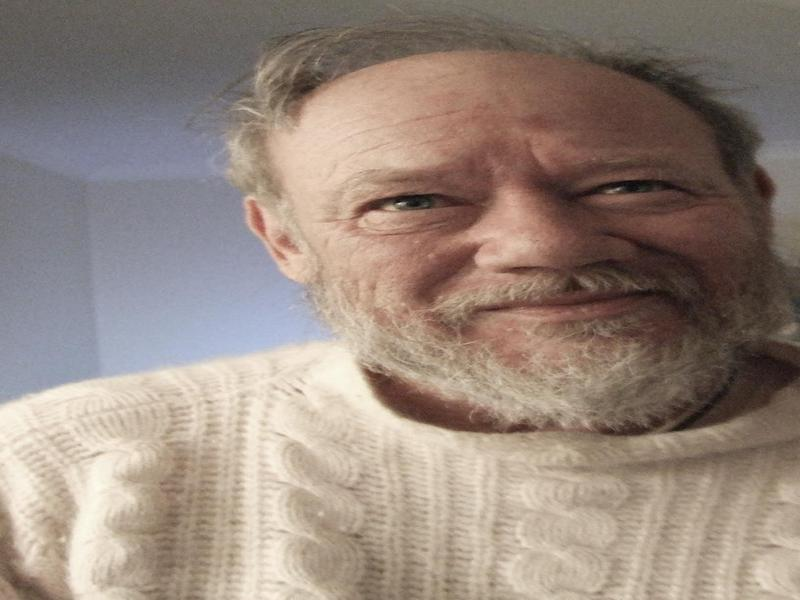person: (5, 15, 798, 600)
